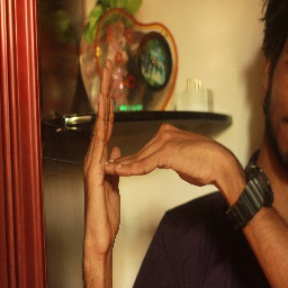Z: (75, 55, 220, 257)
